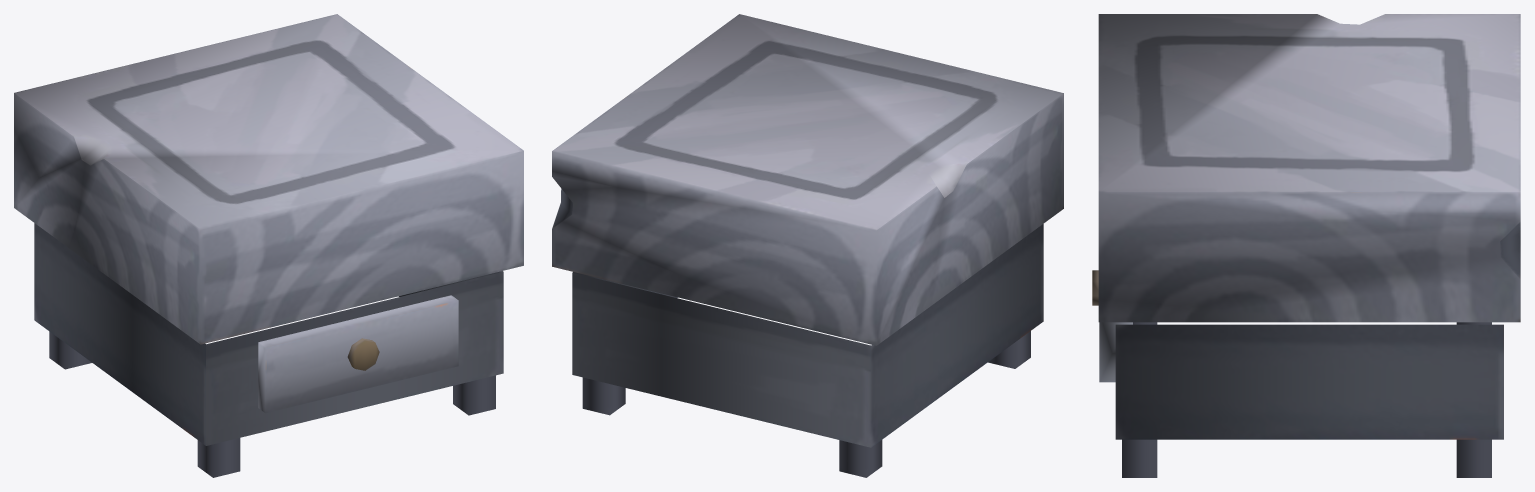
3 views of the same model, side by side, from view 1: azimuth 30°, elevation 25°; view 2: azimuth 150°, elevation 25°; view 3: azimuth 270°, elevation 25° (orthographic). The views are drawn at different scales.
Visible parts, largest first — view 1: SM_a19a; view 2: SM_a19a; view 3: SM_a19a.
Boxes of the visible parts, <box> form: SM_a19a: <box>14,14,523,477</box>; SM_a19a: <box>552,14,1063,477</box>; SM_a19a: <box>1092,14,1520,477</box>.
Size of the model in its own units: 104 by 80.53 by 106.
